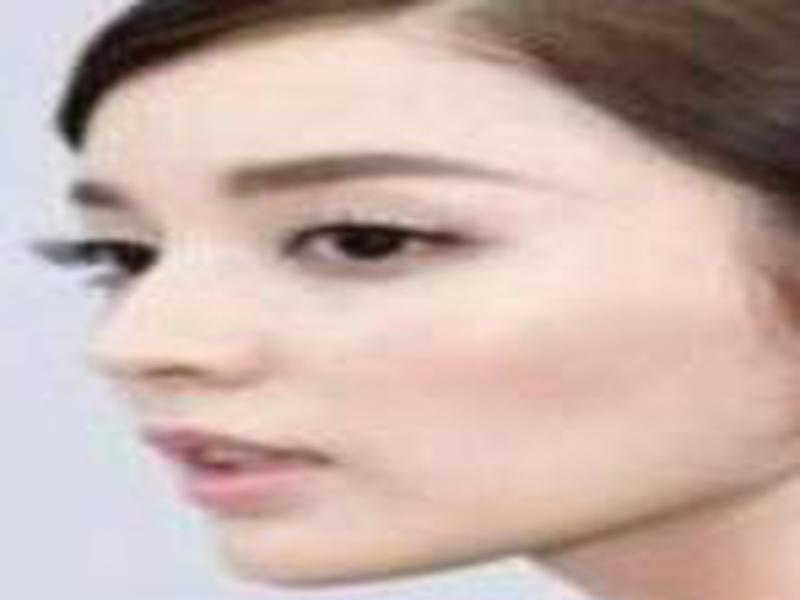without_mask: (69, 55, 800, 586)
